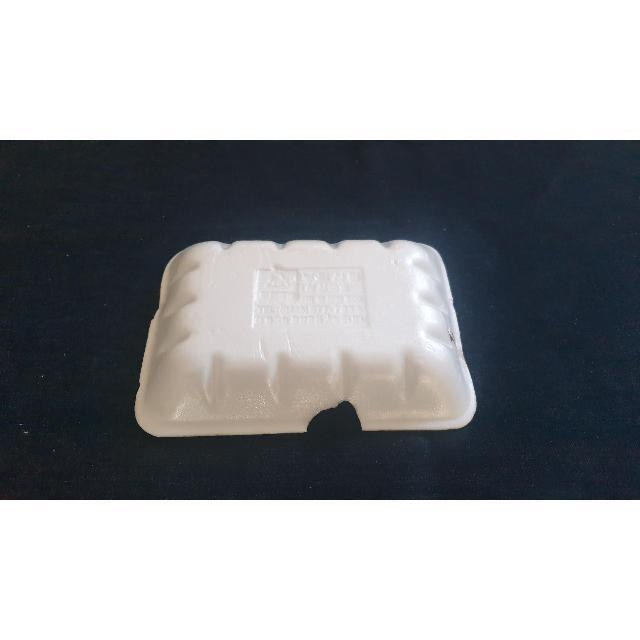Recipiente plastico: (135, 240, 476, 436)
